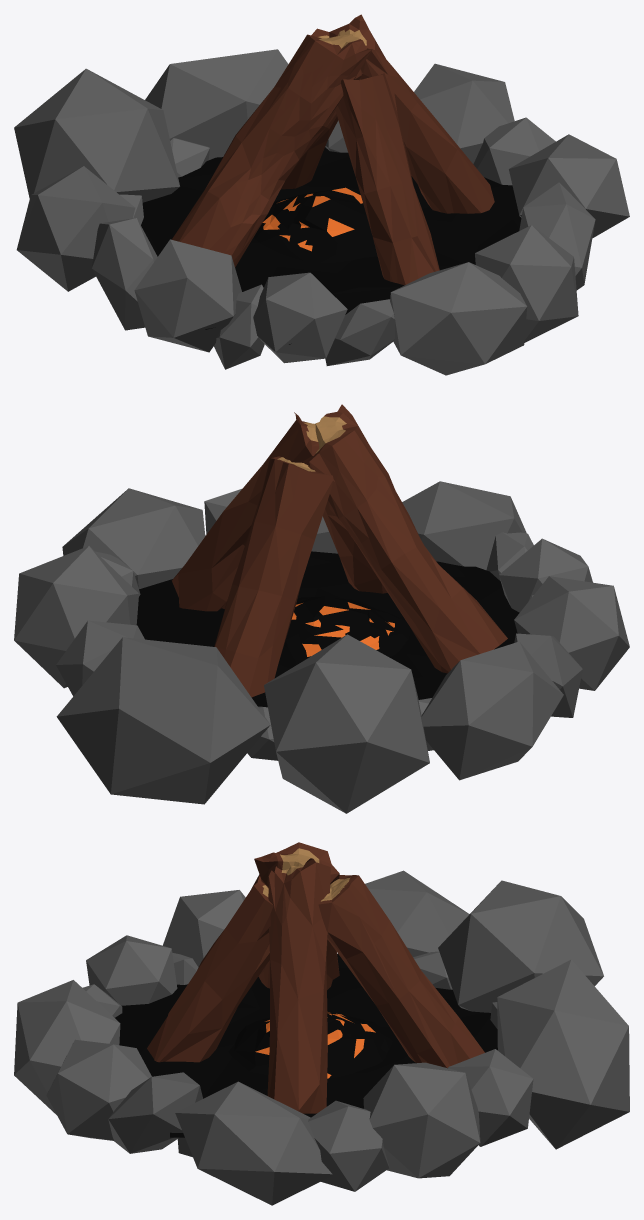
File: Camp Fire.fbx
3 views of the same model, one above another, from view 1: azimuth 30°, elevation 25°; view 2: azimuth 150°, elevation 25°; view 3: azimuth 270°, elevation 25° (orthographic). The views are drawn at different scales.
Parts seen in each view (by area): view 1: Rocks, Wood, Coal_Base; view 2: Rocks, Wood, Coal_Base; view 3: Rocks, Wood, Coal_Base.
Boxes of the visible parts, x1,y1,x2,y2 form: Rocks: (14, 49, 629, 375); Wood: (172, 14, 494, 285); Coal_Base: (141, 147, 521, 344); Rocks: (14, 481, 629, 813); Wood: (172, 404, 507, 697); Coal_Base: (136, 535, 519, 707); Rocks: (14, 870, 629, 1205); Wood: (147, 842, 484, 1113); Coal_Base: (115, 953, 497, 1137).
Size of the model in its own units: 599 by 294 by 616.
